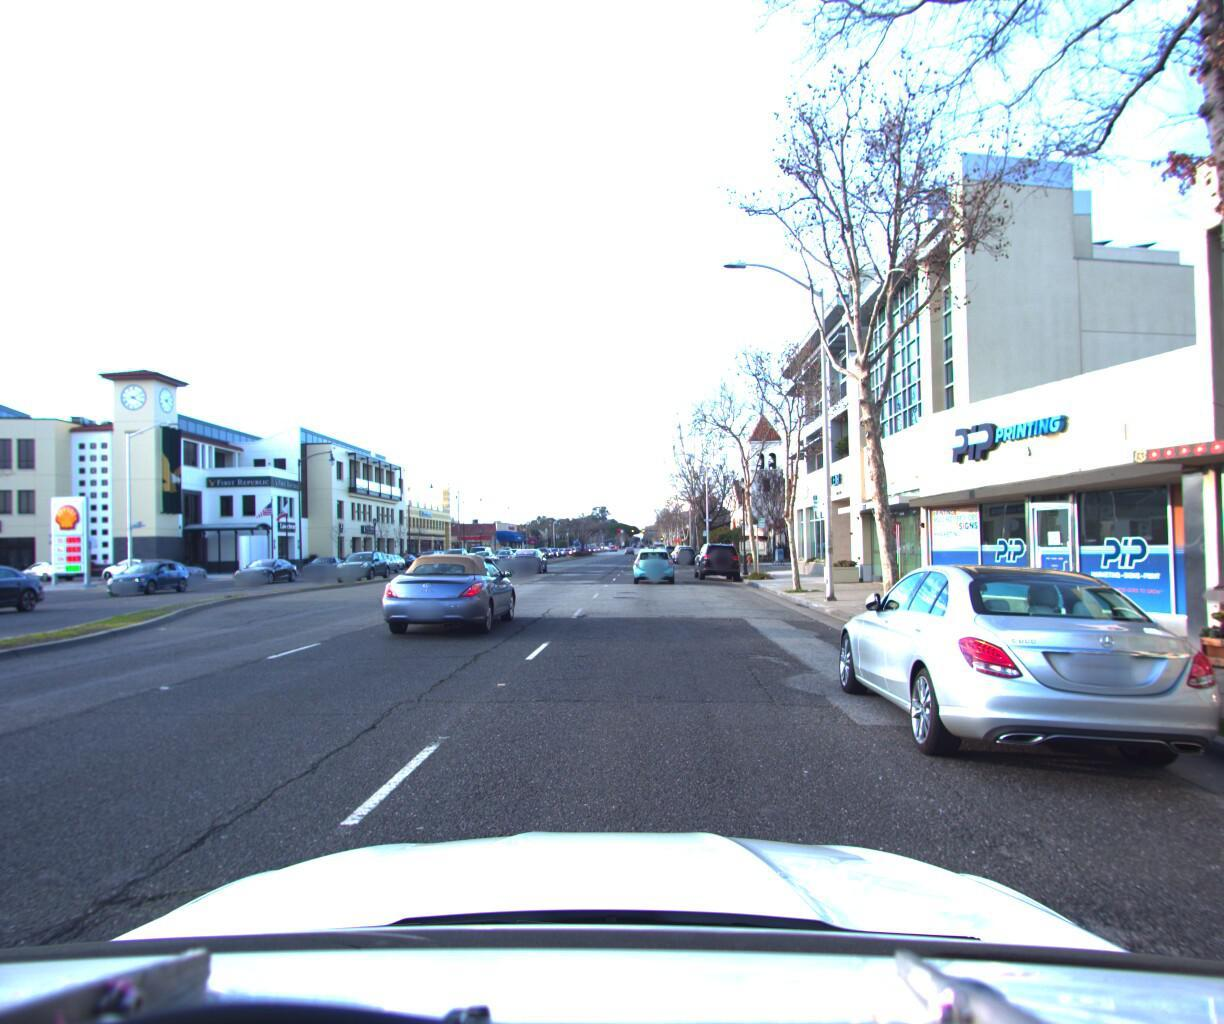car: (828, 549, 1224, 821), (379, 546, 521, 640), (100, 555, 199, 596), (0, 553, 53, 622), (120, 554, 213, 583), (692, 538, 743, 579), (97, 551, 172, 579), (331, 547, 394, 580), (233, 553, 302, 583), (632, 542, 674, 582), (19, 558, 87, 581), (296, 551, 349, 574), (507, 542, 547, 569), (670, 539, 694, 559), (675, 541, 695, 561)
